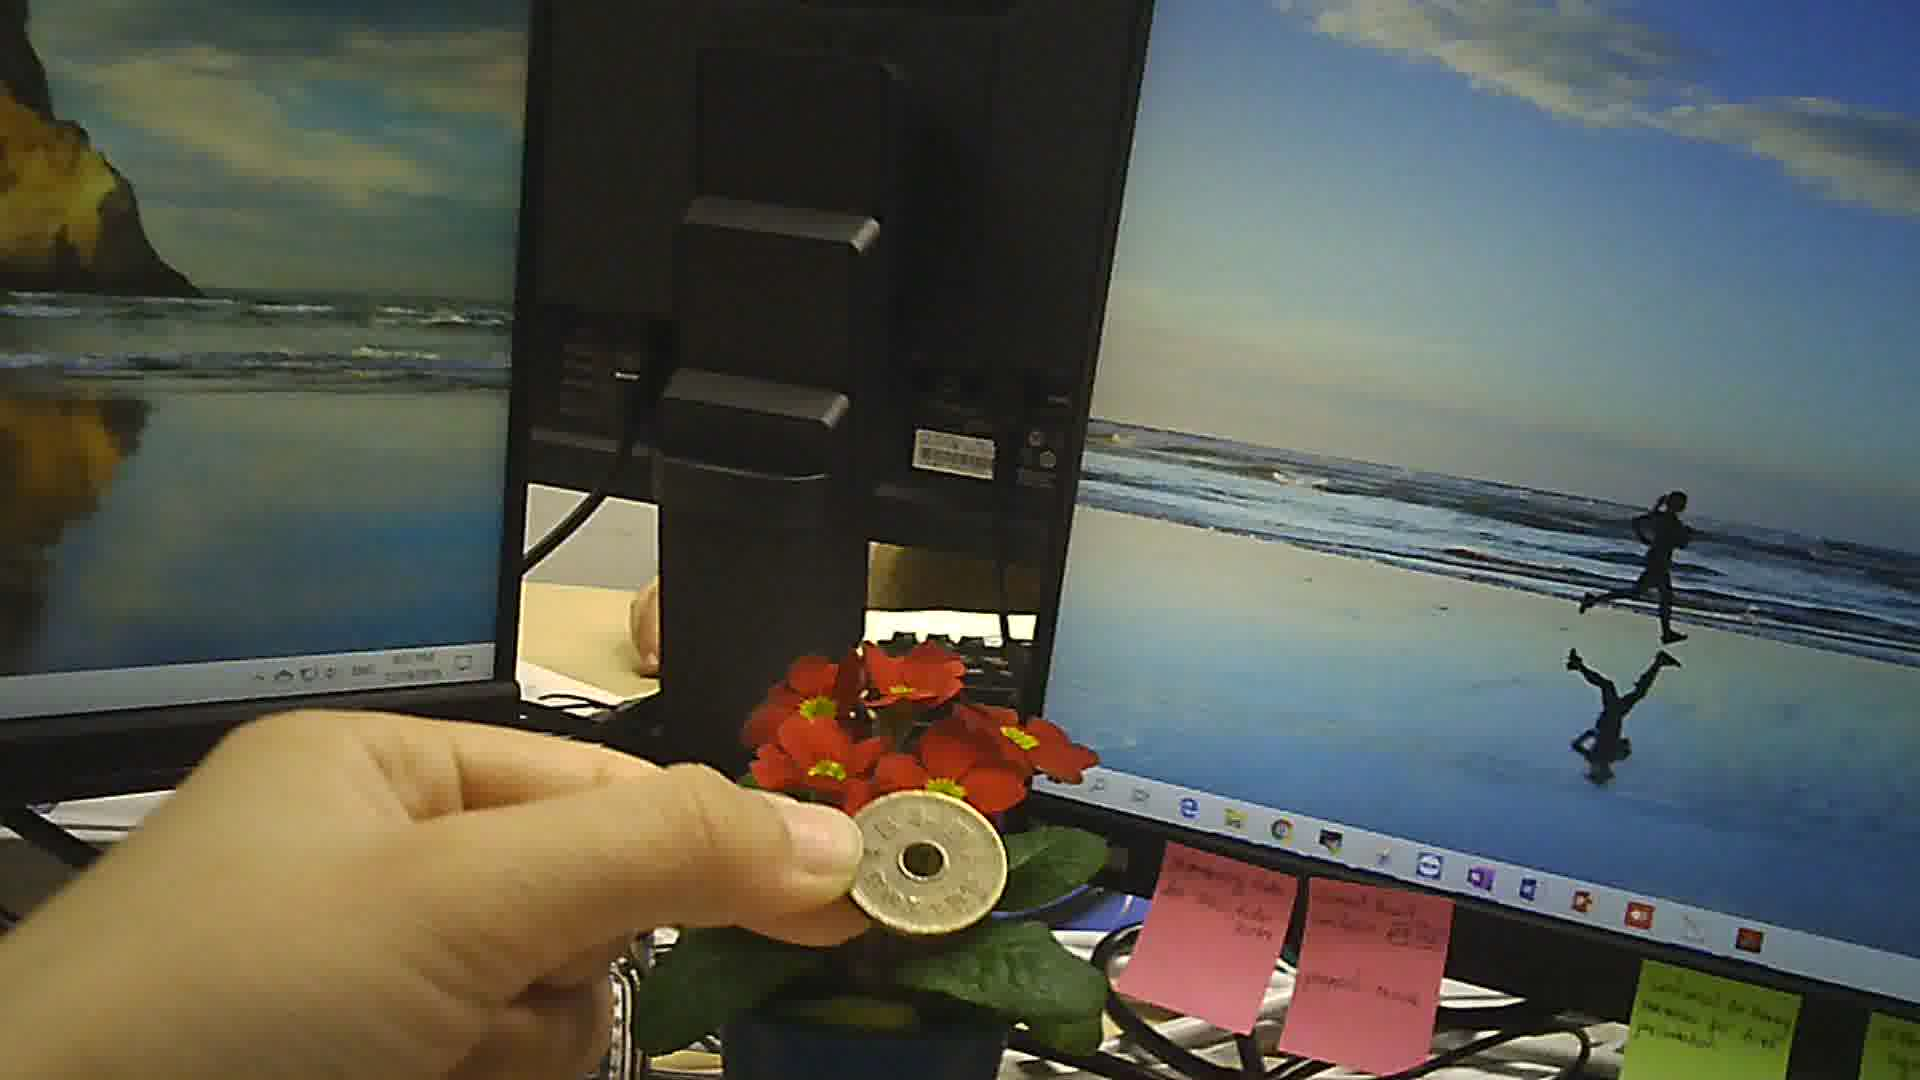5 Yen: (828, 785, 1017, 942)
